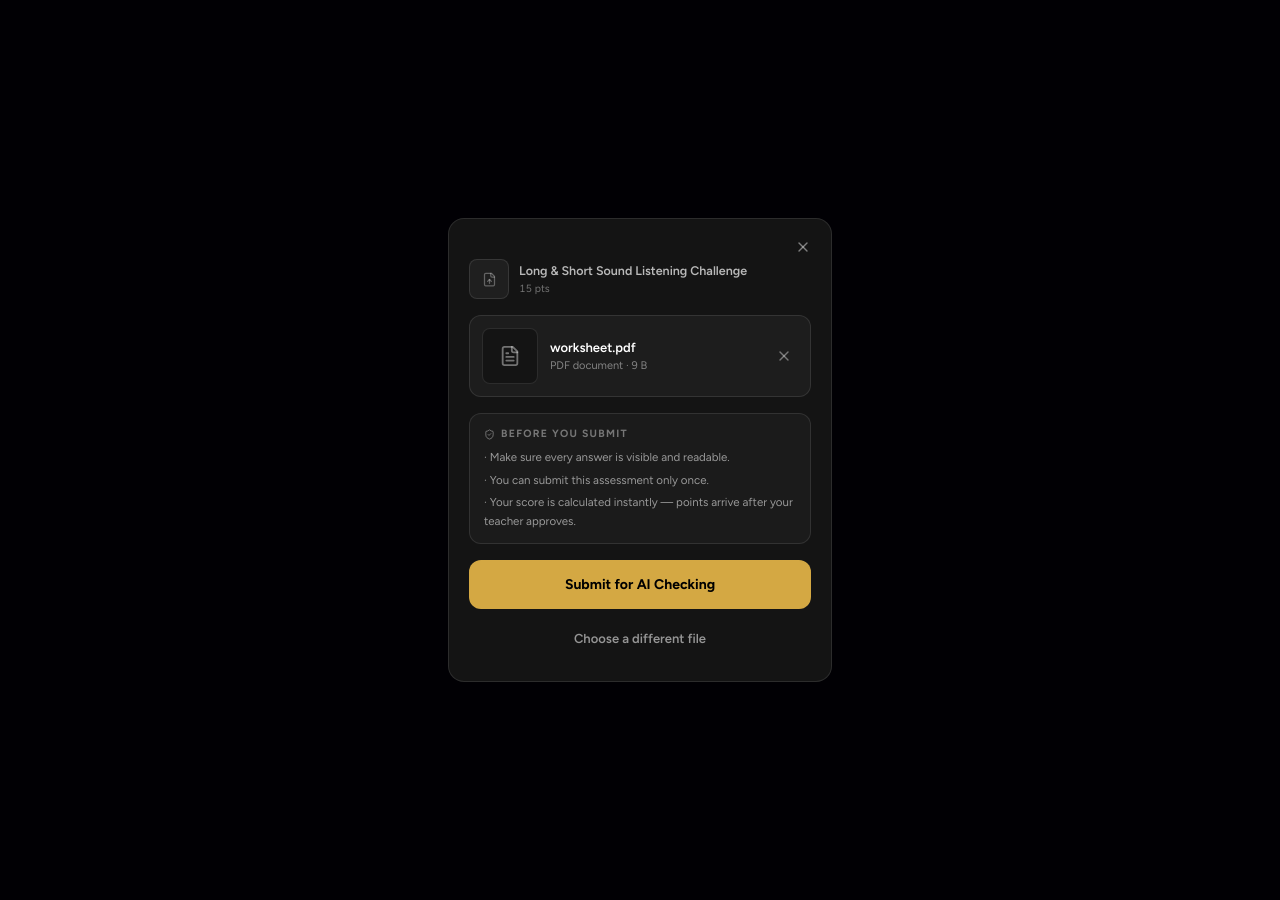
Scenario: a needs_review result is shown honestly, not as a final score
Earlier steps of the test are not shown.
What coordinates should you click on to do the following:
click the button with test id "assessment-submit-confirm-button"
I would click on:
 (640, 584)
Its box is top-left (469, 560), bottom-right (811, 609).
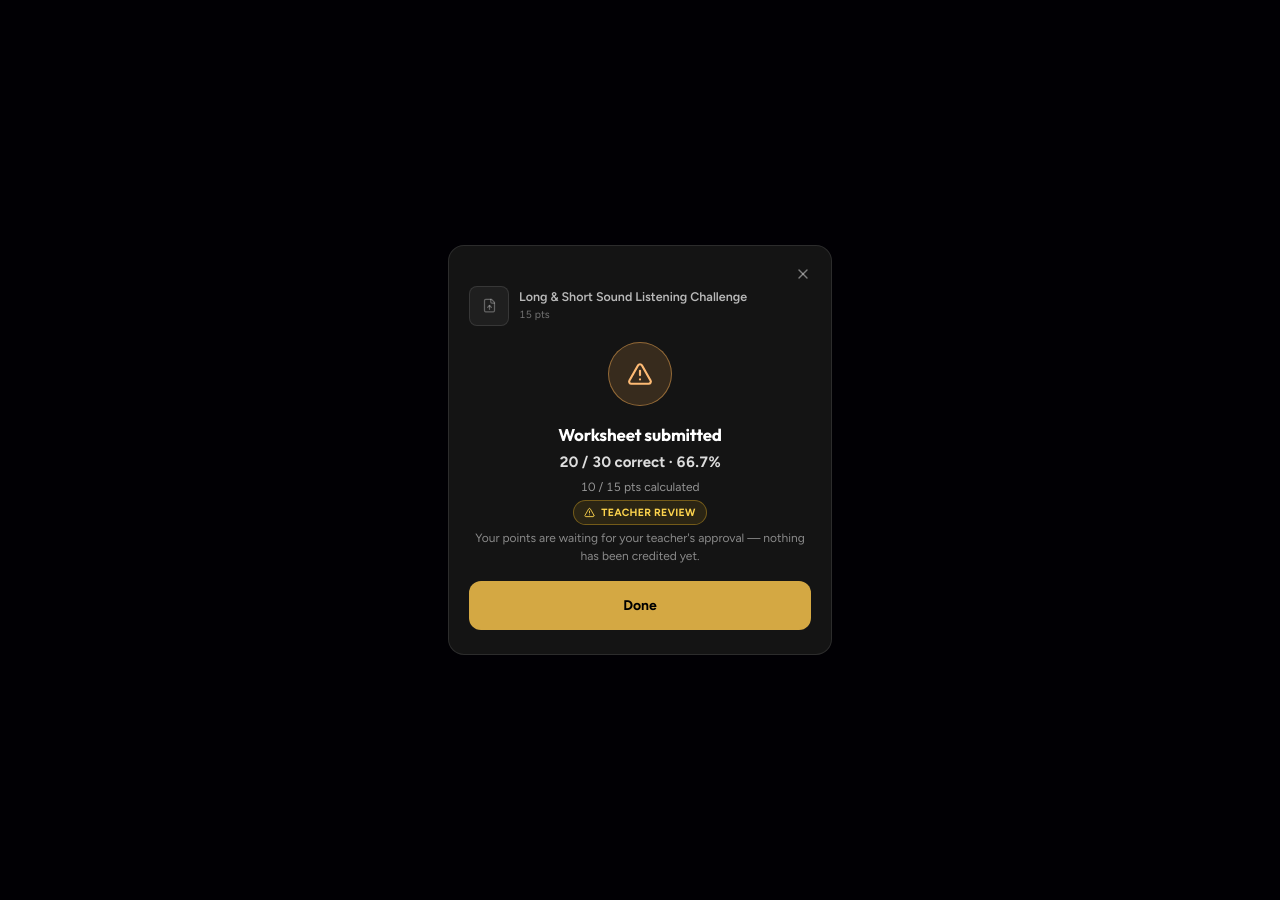
Expected: the element with test id "assessment-submit-result" is shown, top-left (469, 282), bottom-right (811, 634)
Expected: the heading "Worksheet submitted" is shown, top-left (558, 424), bottom-right (722, 445)
Expected: the element with test id "assessment-submit-teacher-review-pill" reads "Teacher review", top-left (601, 506), bottom-right (696, 519)
